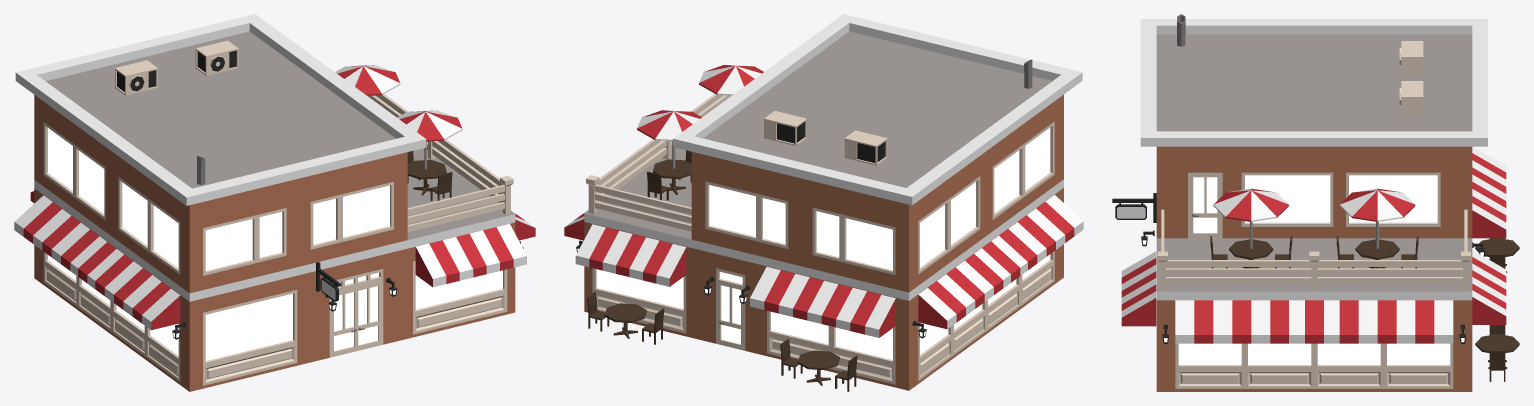
The model's file is buildings-building-restaurant.glb.
3 views of the same model, side by side, from view 1: azimuth 30°, elevation 25°; view 2: azimuth 150°, elevation 25°; view 3: azimuth 270°, elevation 25° (orthographic).
Parts seen in each view (by area): view 1: building-restaurant; view 2: building-restaurant; view 3: building-restaurant.
Part boxes in pixels (box(x1,y1,x2,y2)): building-restaurant: box(14, 14, 535, 391); building-restaurant: box(564, 14, 1083, 391); building-restaurant: box(1112, 14, 1519, 391).
Bounding box in the file's own units: 14.28 × 7.9 × 12.9.
